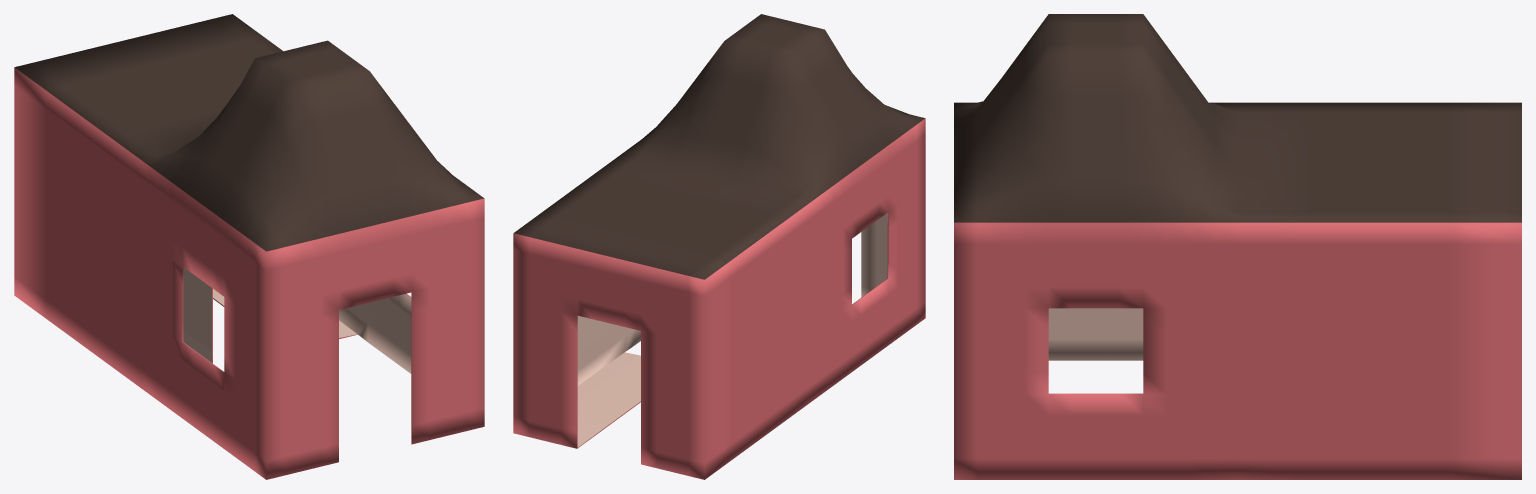
File: small house.glb
3 views of the same model, side by side, from view 1: azimuth 30°, elevation 25°; view 2: azimuth 150°, elevation 25°; view 3: azimuth 270°, elevation 25° (orthographic). The views are drawn at different scales.
Parts seen in each view (by area): view 1: Cube; view 2: Cube; view 3: Cube.
Boxes of the visible parts, bbox=[...] form: Cube: bbox=[14, 14, 484, 479]; Cube: bbox=[513, 14, 925, 479]; Cube: bbox=[954, 14, 1521, 479].
Bounding box in the file's own units: 10 × 15 × 20.
